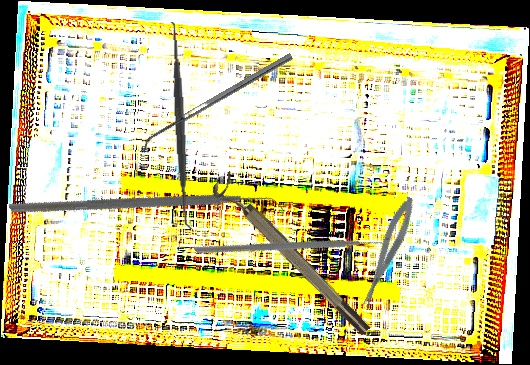Chopper: (7, 78, 289, 344), (193, 157, 394, 347)
Fixation Ring: (208, 170, 374, 345)
Micro Scissor: (353, 194, 421, 312)
Spatula Surgical: (137, 52, 297, 154), (163, 21, 198, 230)
